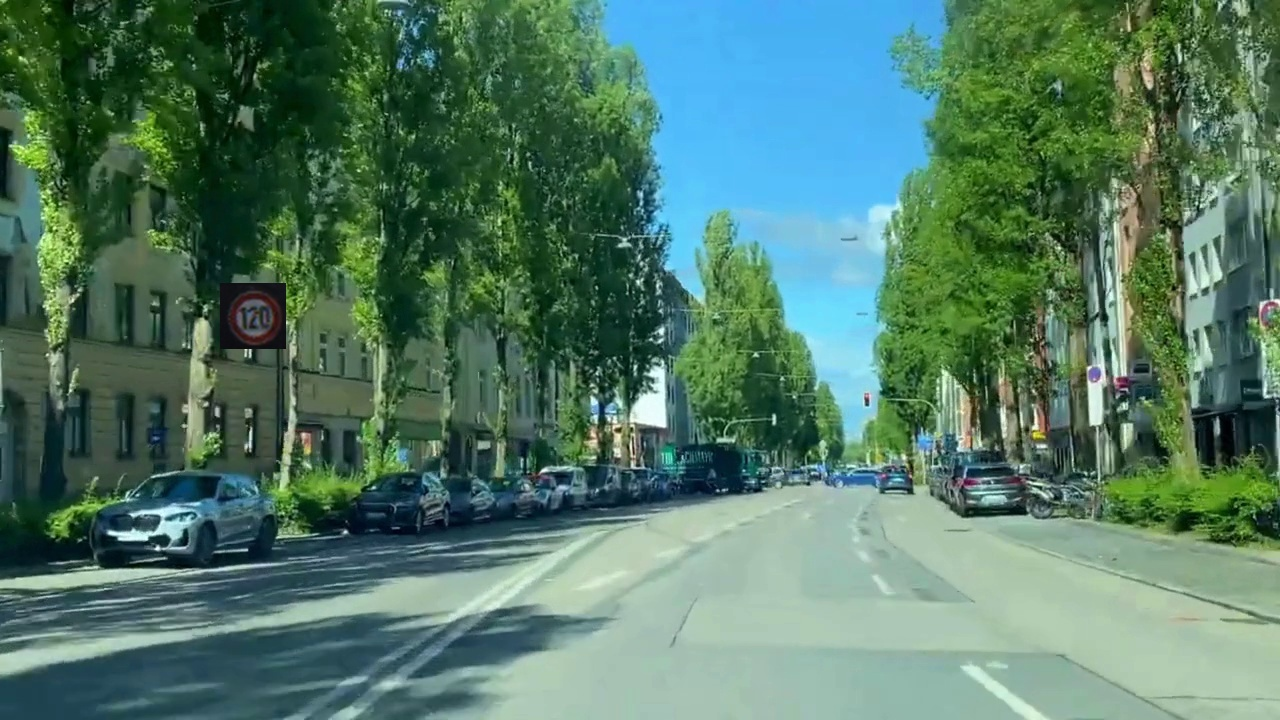Speed 120: (220, 283, 286, 349)
